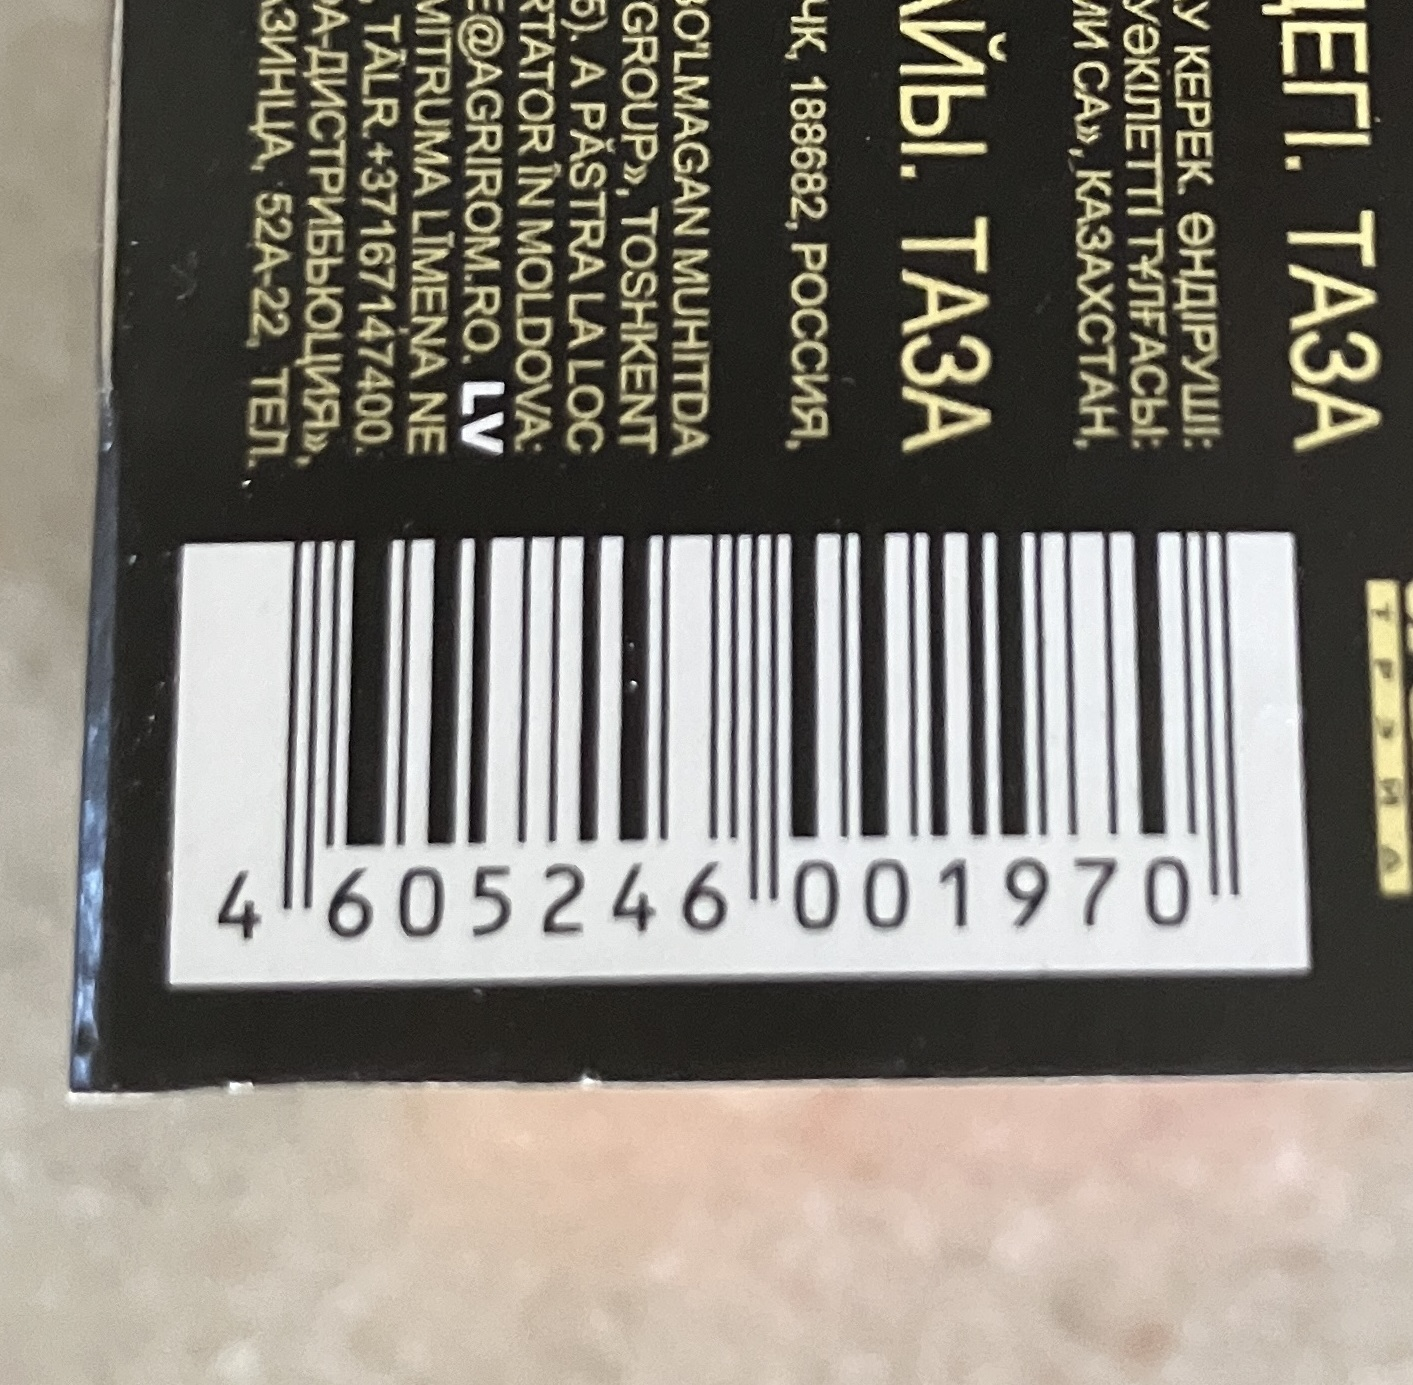1d: (285, 534, 1240, 909)
